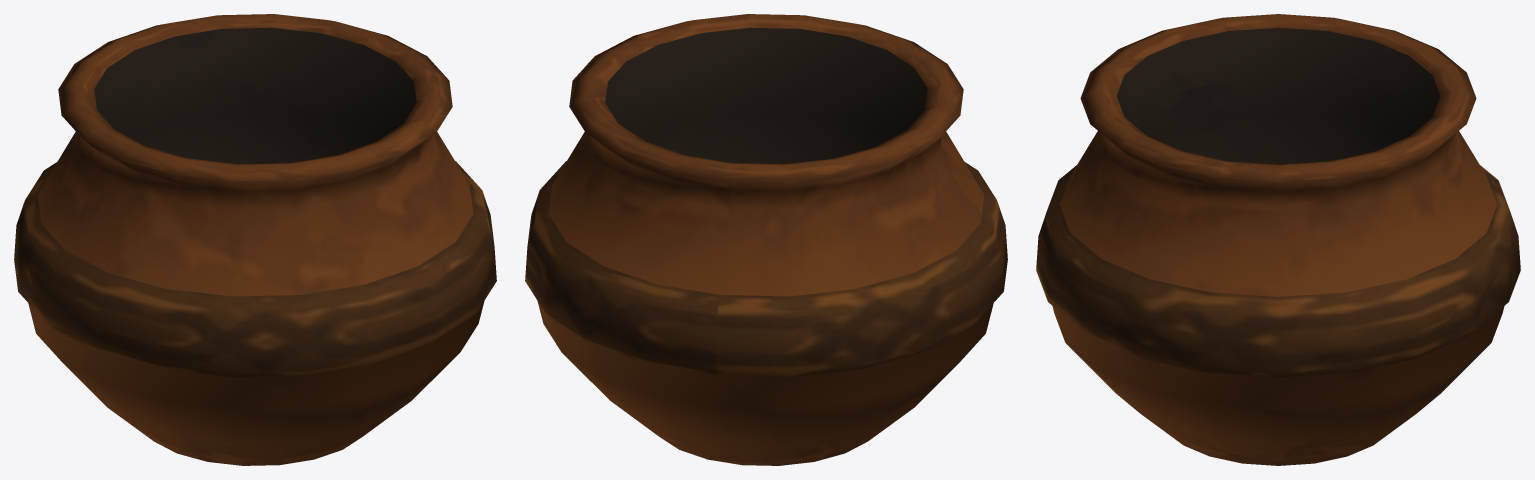
Rendered from quaternius-fantasy-props-vase-2.glb.
The picture shows the model from 3 angles, left to right: view 1: azimuth 30°, elevation 25°; view 2: azimuth 150°, elevation 25°; view 3: azimuth 270°, elevation 25°; orthographic projection.
Parts seen in each view (by area): view 1: Vase_2; view 2: Vase_2; view 3: Vase_2.
Part boxes in pixels (bbox=[...]): Vase_2: bbox=[14, 14, 496, 465]; Vase_2: bbox=[525, 14, 1007, 465]; Vase_2: bbox=[1036, 14, 1520, 465].
Size of the model in its own units: 0.6947 by 0.5163 by 0.6947.
Materials: 1 (1 with a texture image).
